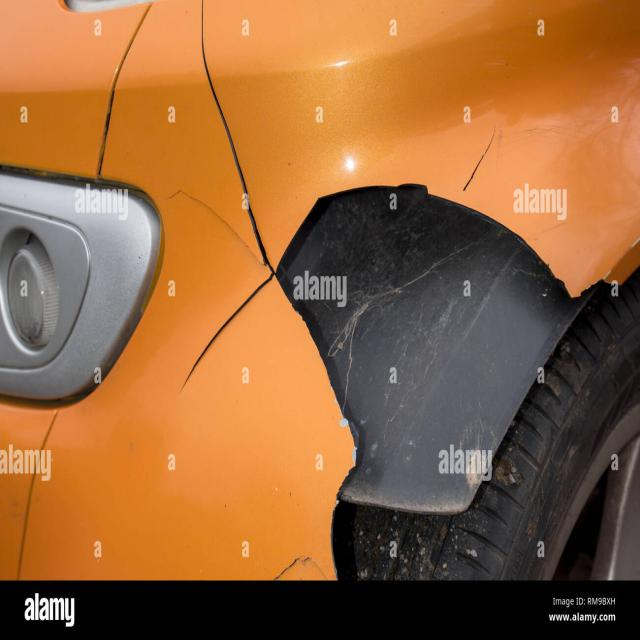scratch: (497, 117, 576, 171)
tear: (165, 0, 618, 583), (461, 124, 499, 193)
